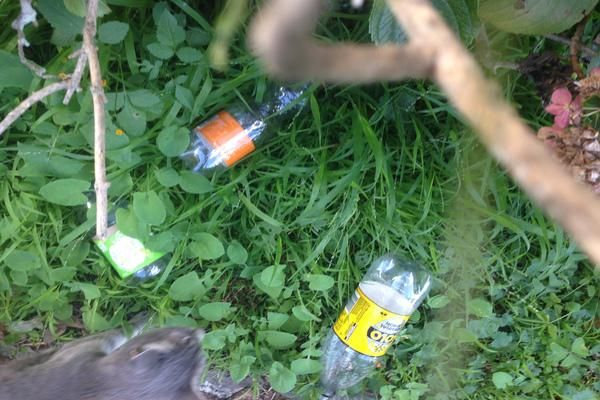Plastic Bottle: (316, 251, 432, 395), (176, 82, 312, 173), (74, 191, 169, 287)
